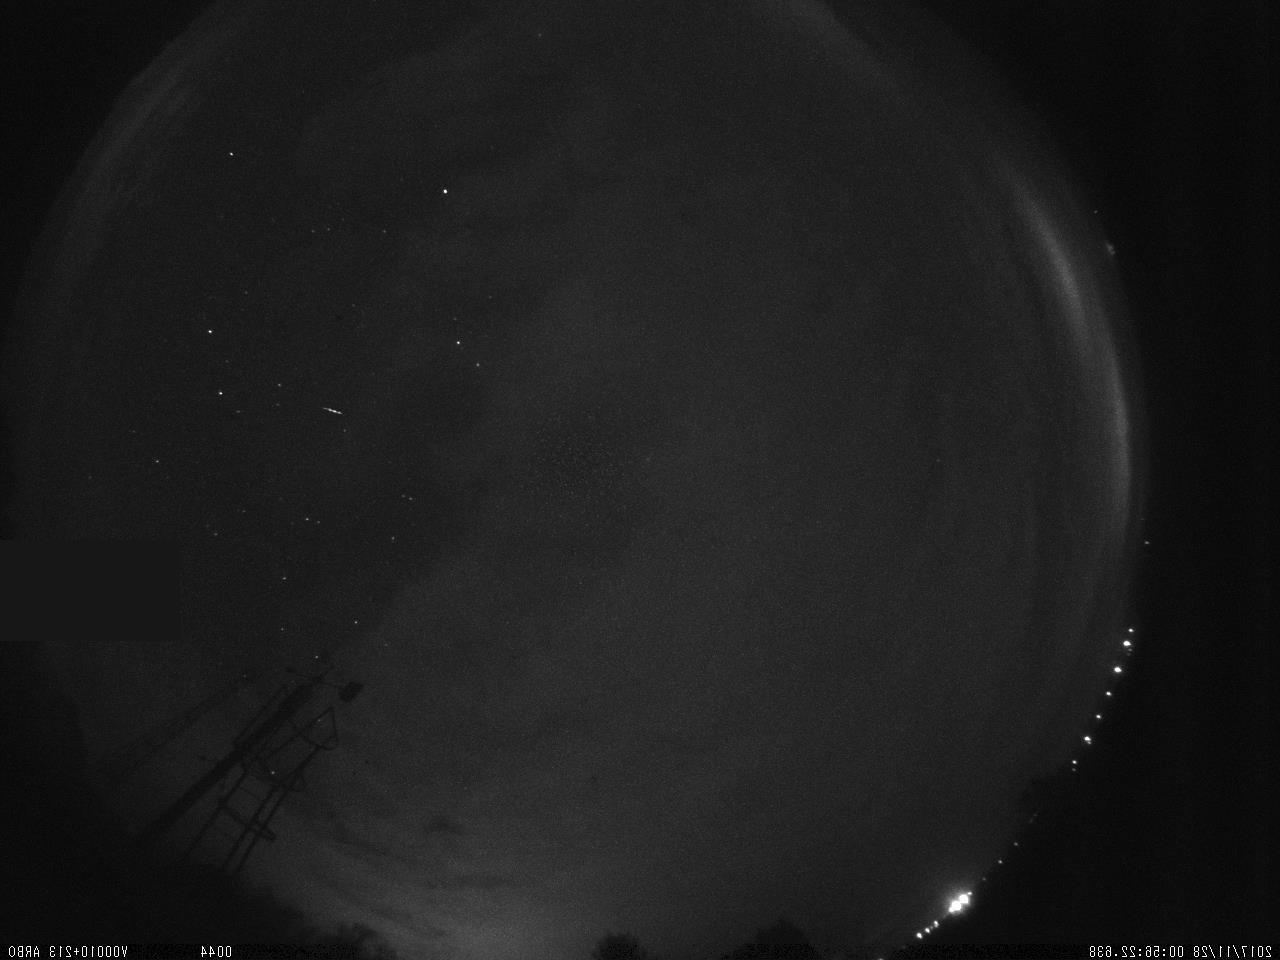meteor: (305, 399, 355, 424)
